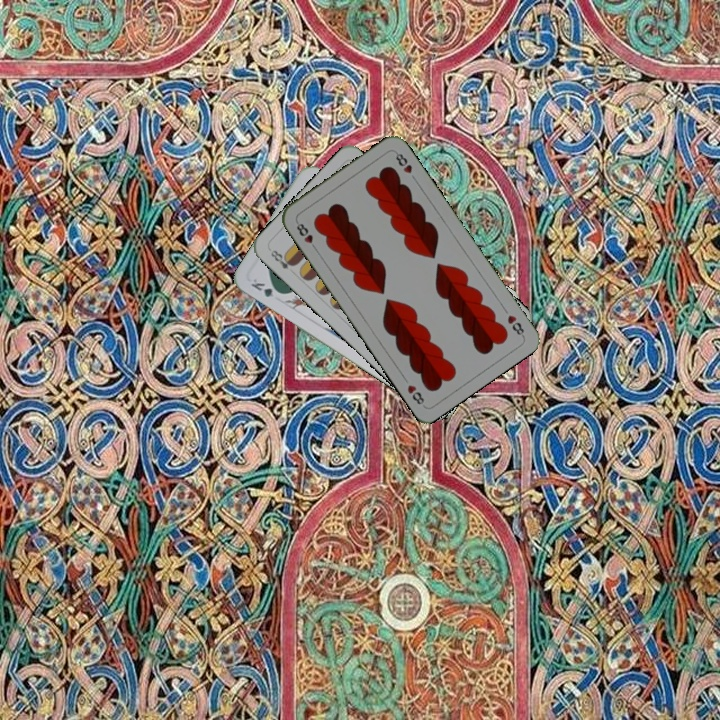E8: (266, 246, 298, 272)
GK: (247, 274, 285, 300)
H8: (292, 217, 320, 253), (503, 311, 527, 339)
